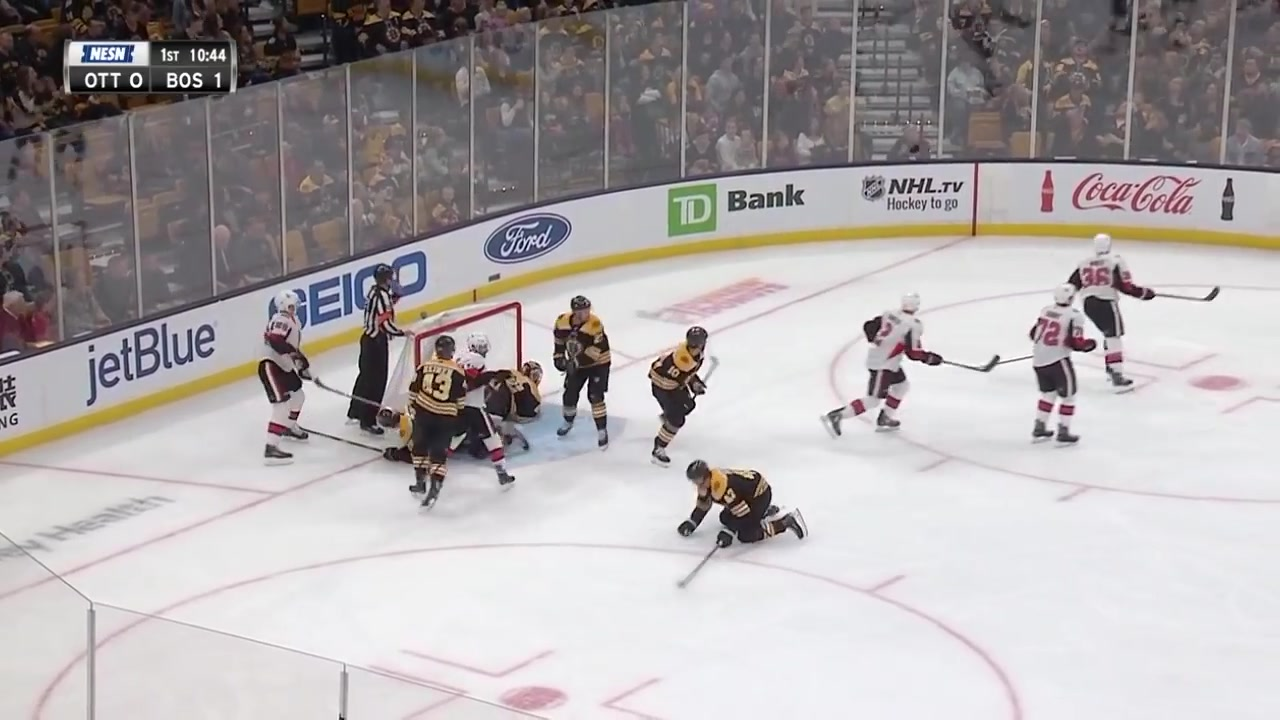geico: (268, 257, 460, 330)
